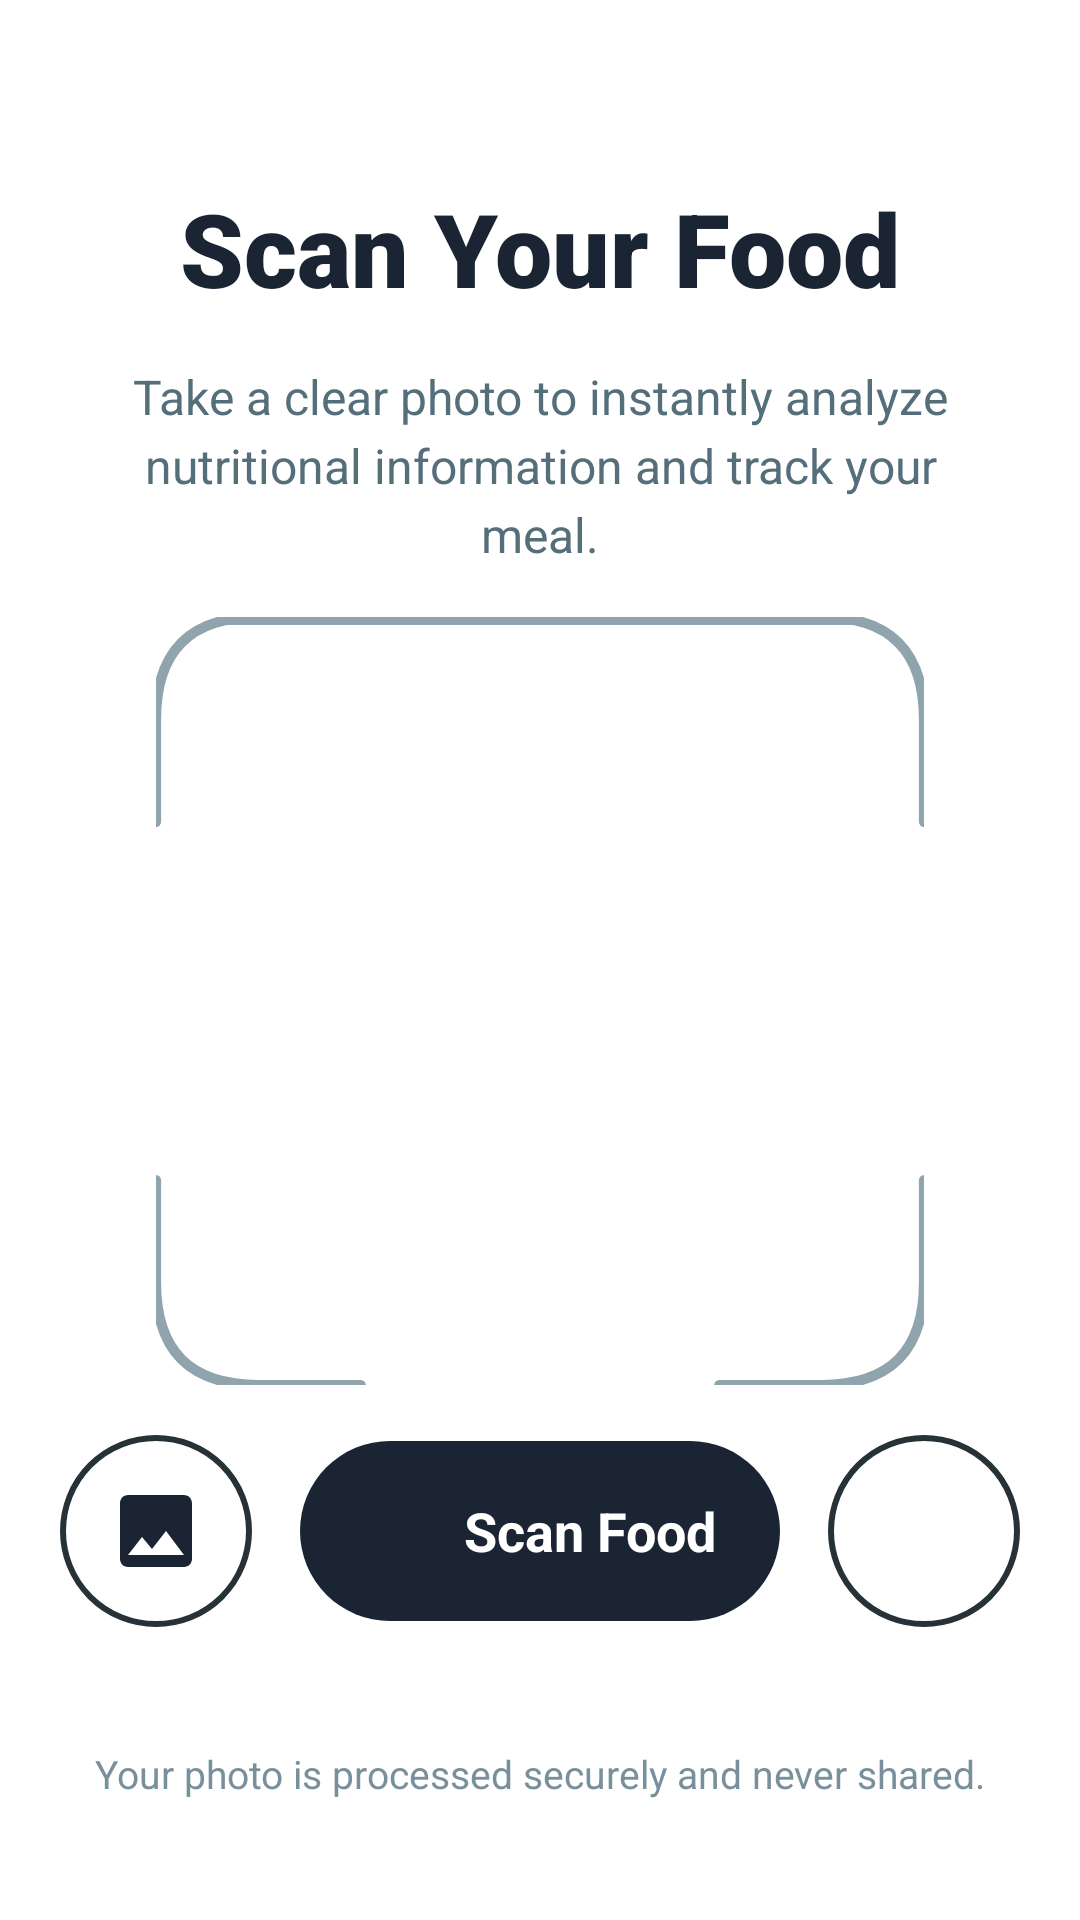

Icons on this 1080w x 1920h Android screen, each with its box as (x1,y1,x2,y2):
Gallery: (60,1435,252,1627)
